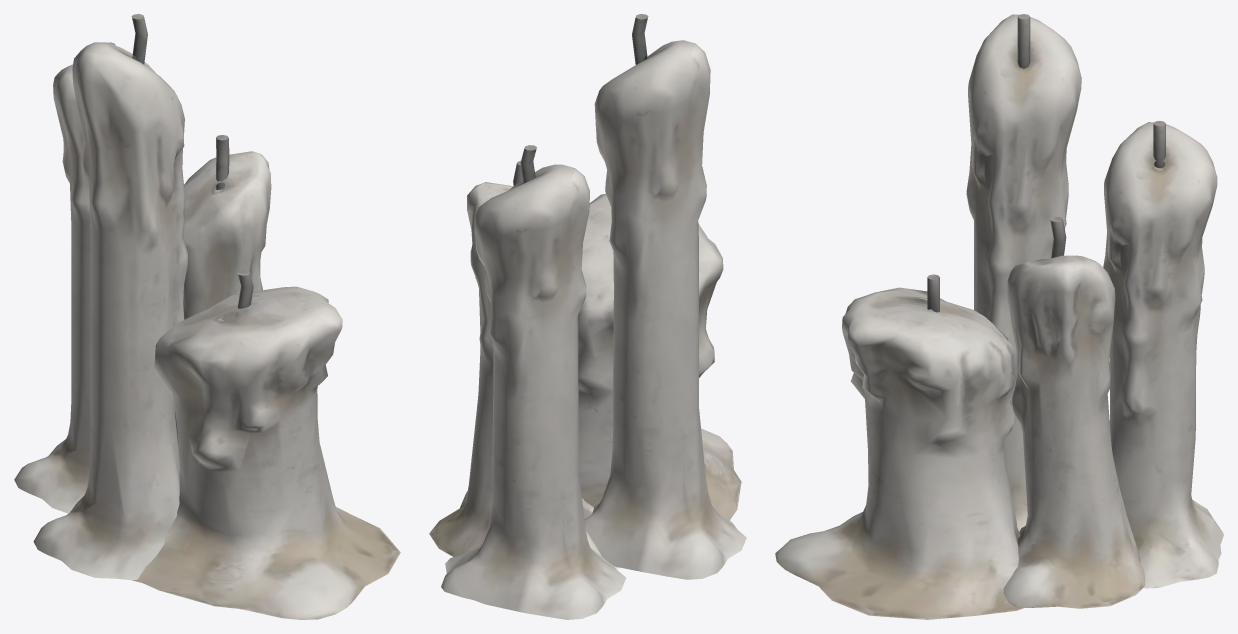
3 views of the same model, side by side, from view 1: azimuth 30°, elevation 25°; view 2: azimuth 150°, elevation 25°; view 3: azimuth 270°, elevation 25° (orthographic). The views are drawn at different scales.
Parts seen in each view (by area): view 1: SM_Candle_01_v4_LOD0; view 2: SM_Candle_01_v4_LOD0; view 3: SM_Candle_01_v4_LOD0.
Boxes of the visible parts, box(x1,y1,x2,y2) form: SM_Candle_01_v4_LOD0: box(14, 14, 400, 619); SM_Candle_01_v4_LOD0: box(429, 14, 746, 619); SM_Candle_01_v4_LOD0: box(775, 14, 1223, 619).
Size of the model in its own units: 0.176 by 0.3136 by 0.2495.
Materials: 1 (1 with a texture image).
